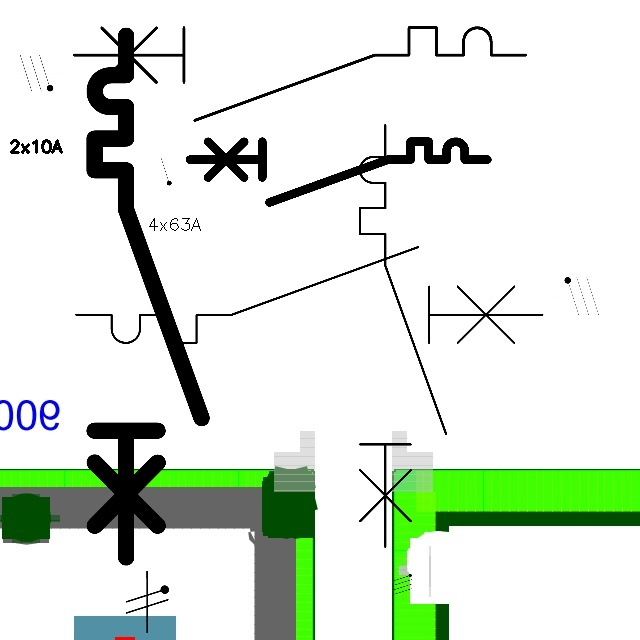interruptor_termomagnetico: (81, 22, 215, 571), (64, 235, 554, 355), (62, 16, 537, 132), (349, 114, 457, 557), (182, 134, 495, 210)
